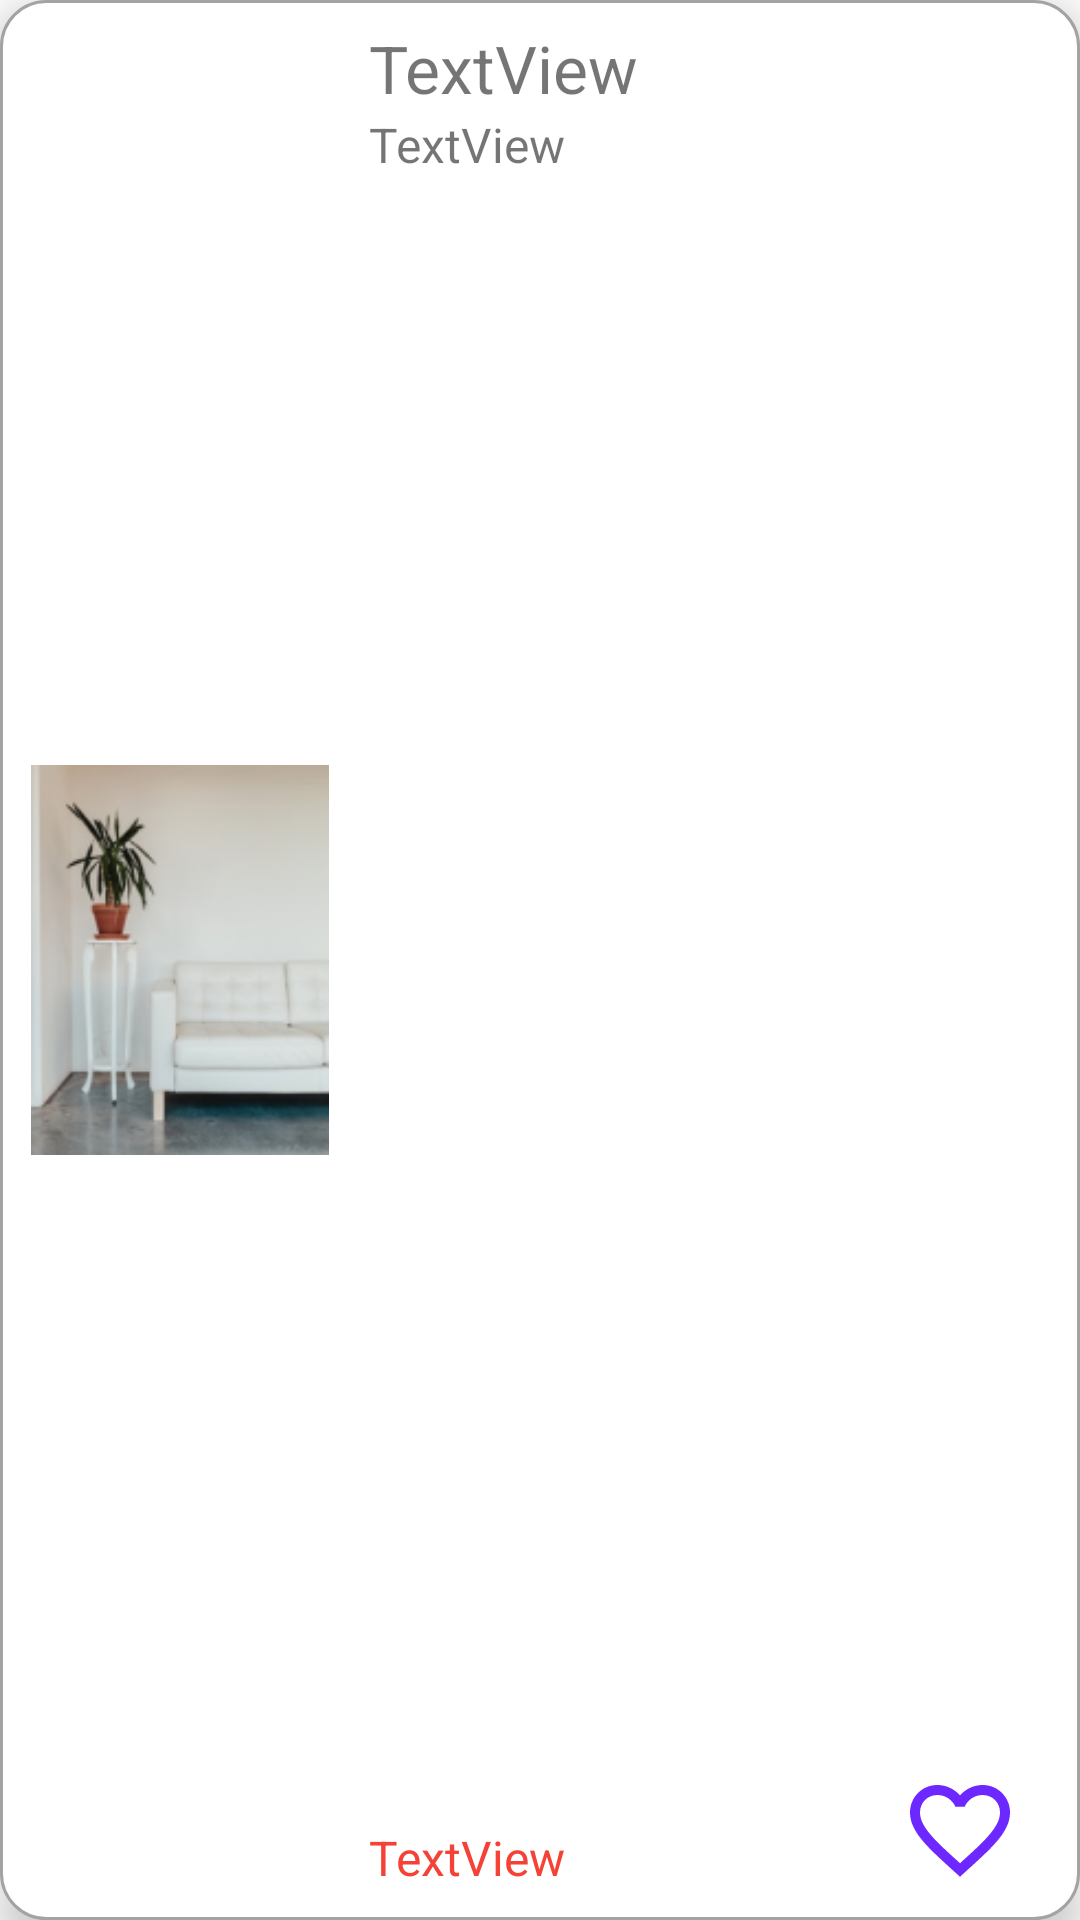

Locate icon controls on the screen. Image size 1080*1920, boxes as region(x1, y1, x2, y2).
favorite border: region(910, 1785, 1010, 1877)
